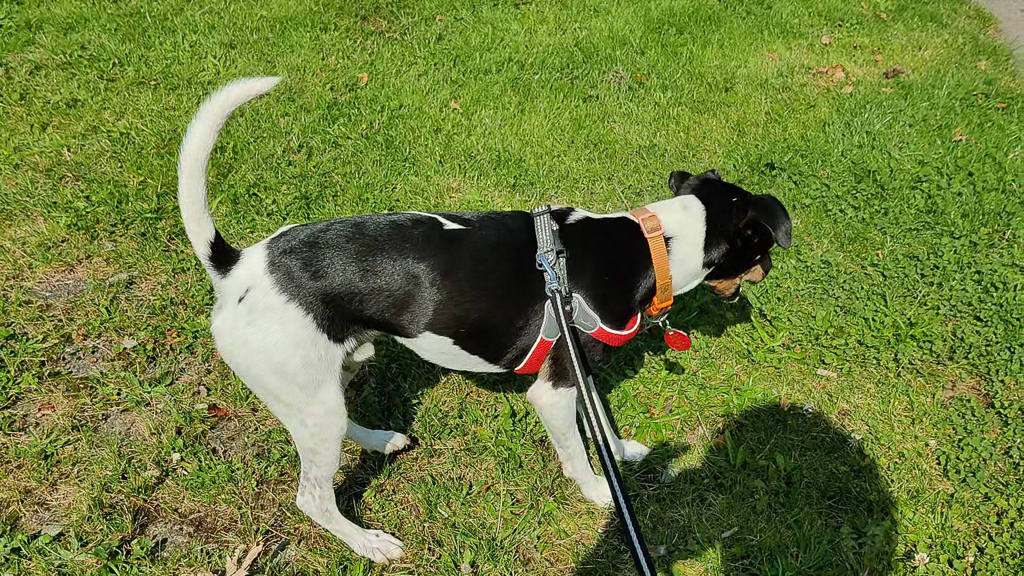Dog: (165, 61, 807, 571)
